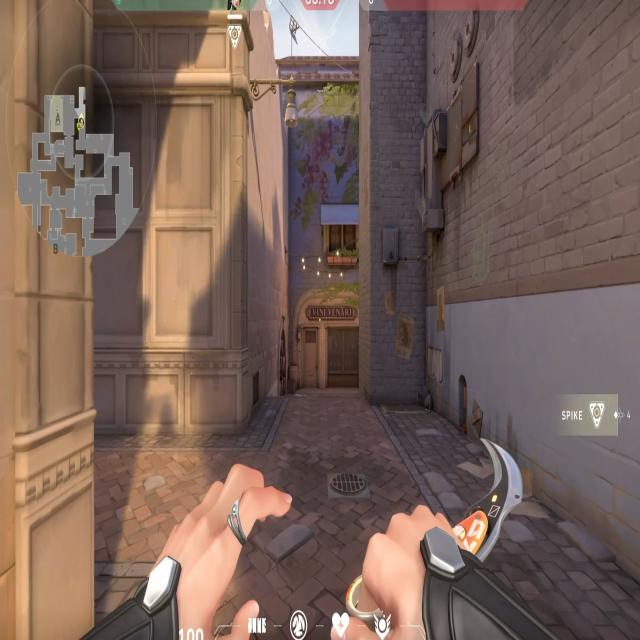Wine: (298, 284, 447, 415)
